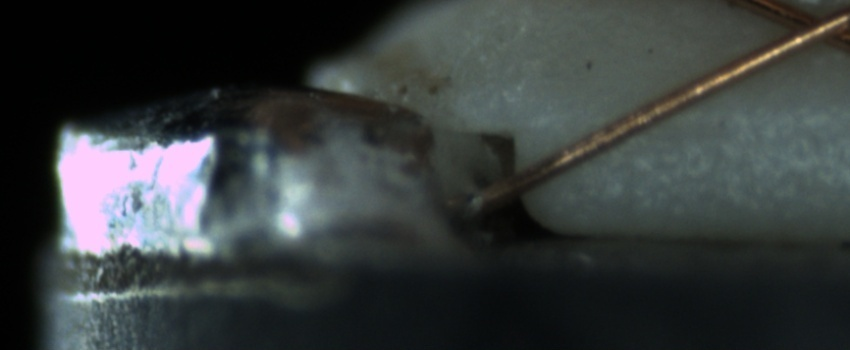CL: (762, 1, 850, 56)
DL: (625, 88, 850, 157)
